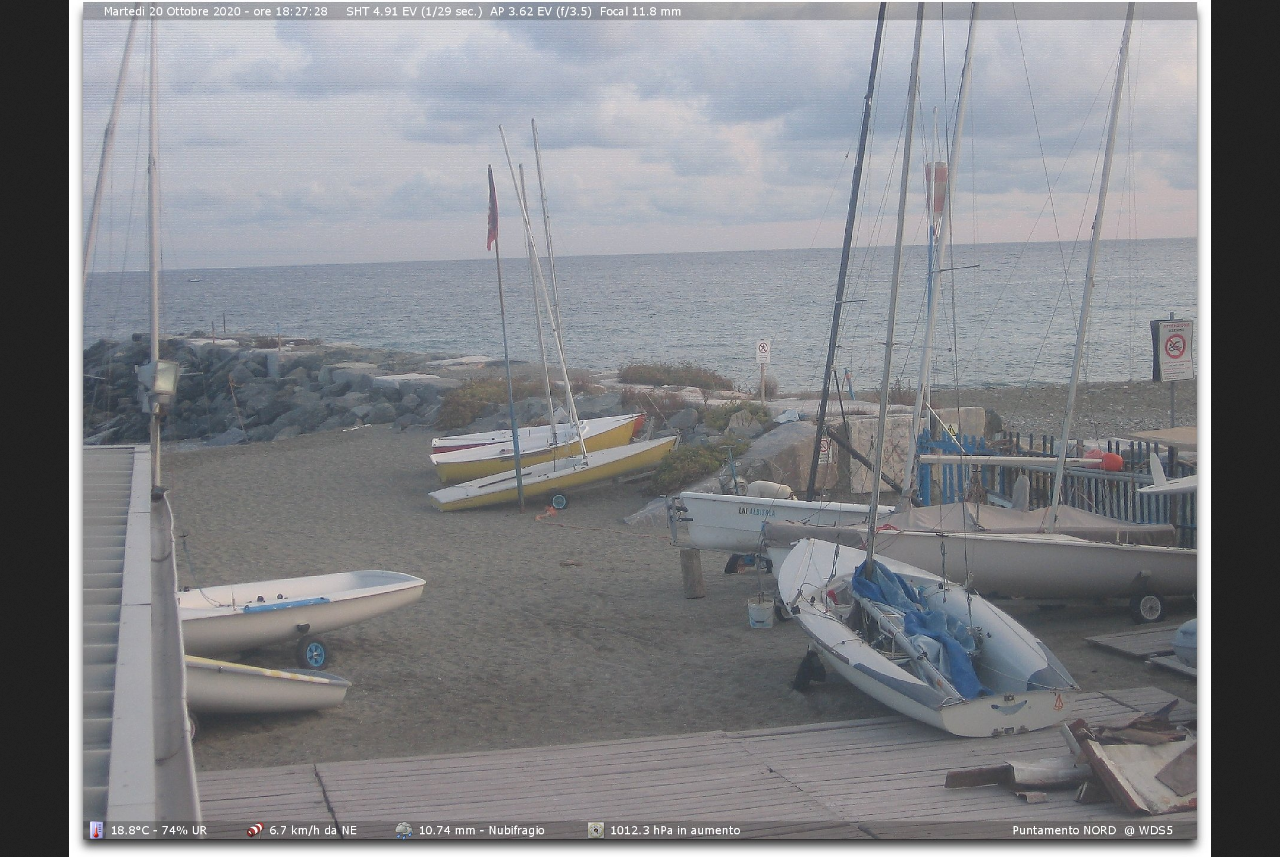no: (483, 172, 501, 250)
